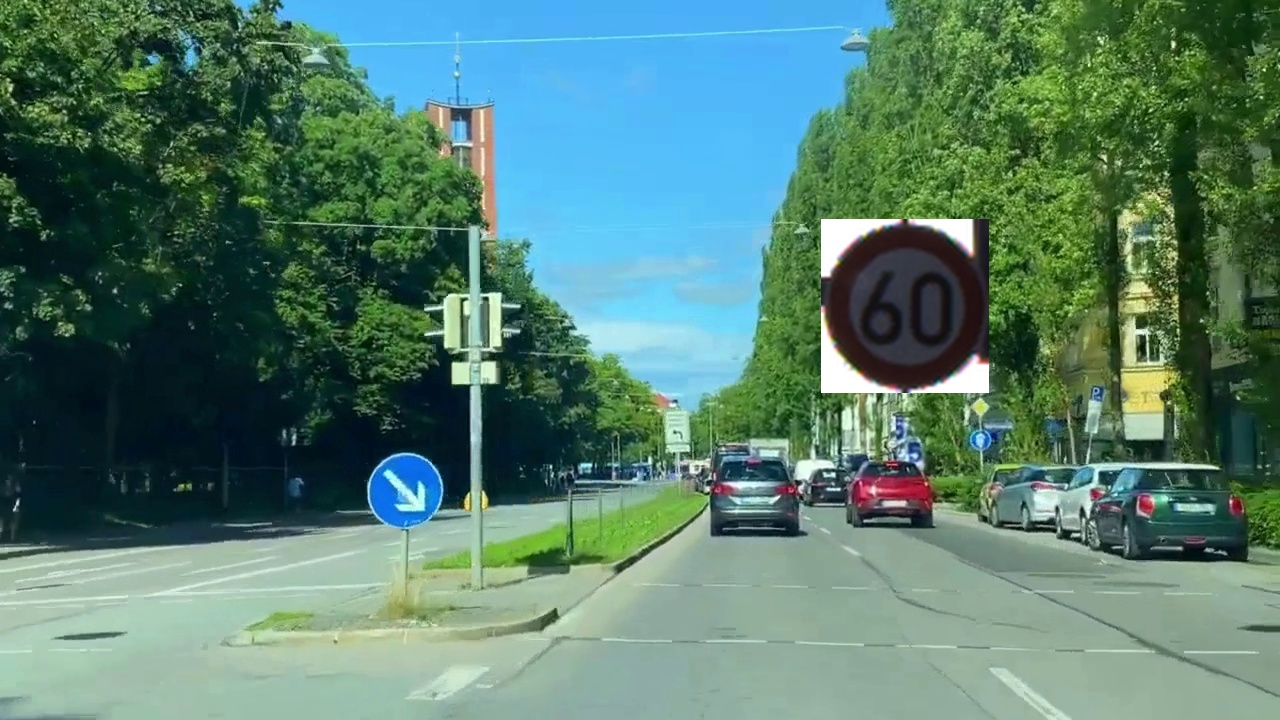Speed 60: (821, 219, 989, 393)
